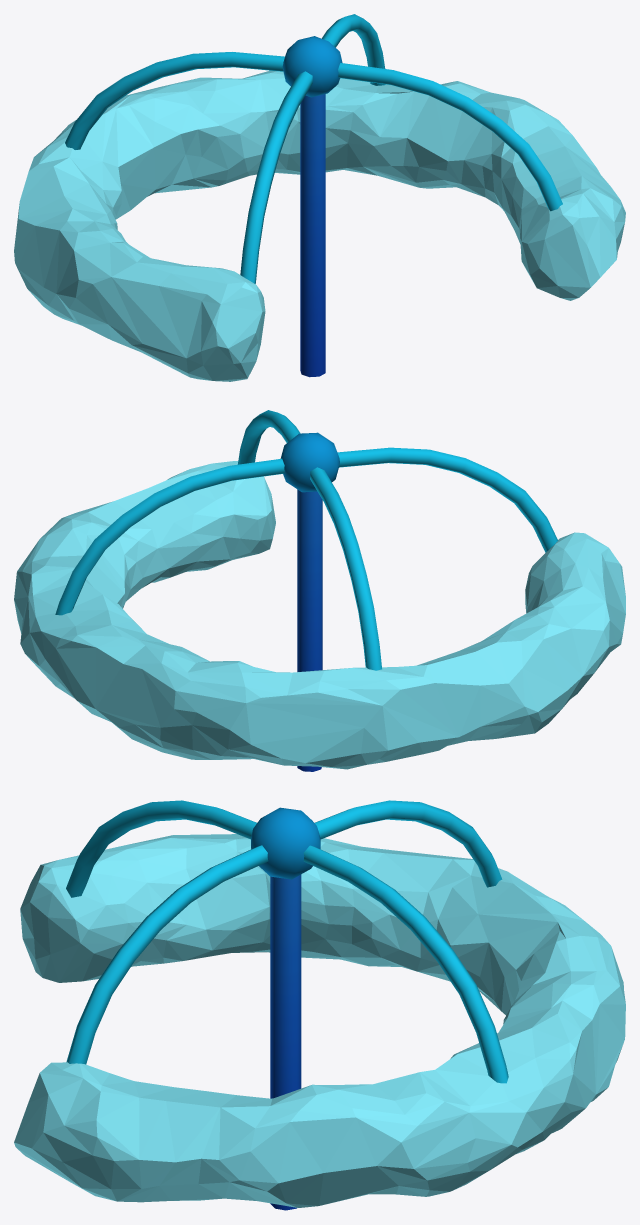
Rendered from obstacle_7_002.fbx.
3 views of the same model, one above another, from view 1: azimuth 30°, elevation 25°; view 2: azimuth 150°, elevation 25°; view 3: azimuth 270°, elevation 25° (orthographic). The views are drawn at different scales.
Parts seen in each view (by area): view 1: obstacle_7_002; view 2: obstacle_7_002; view 3: obstacle_7_002.
Boxes of the visible parts, left/top/right/bottom form: obstacle_7_002: left=14, top=14, right=625, bottom=381; obstacle_7_002: left=14, top=410, right=625, bottom=771; obstacle_7_002: left=14, top=800, right=625, bottom=1210.
Size of the model in its own units: 913 by 774 by 549.
